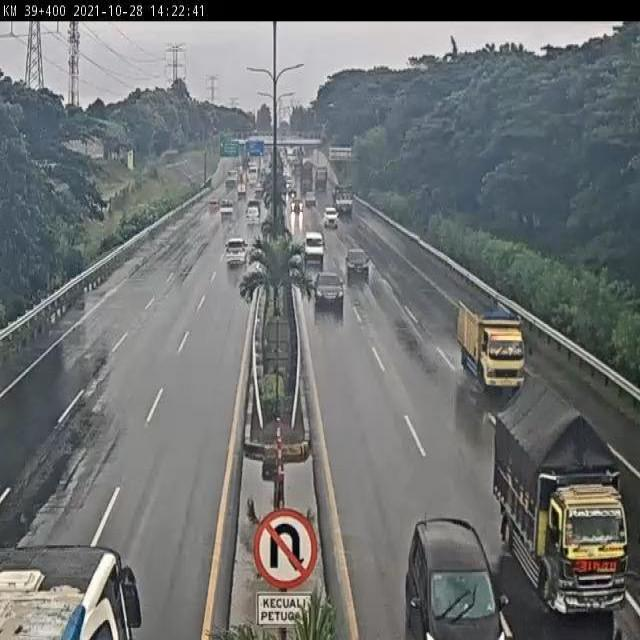truck-s-: (492, 373, 634, 616), (458, 297, 533, 395)
